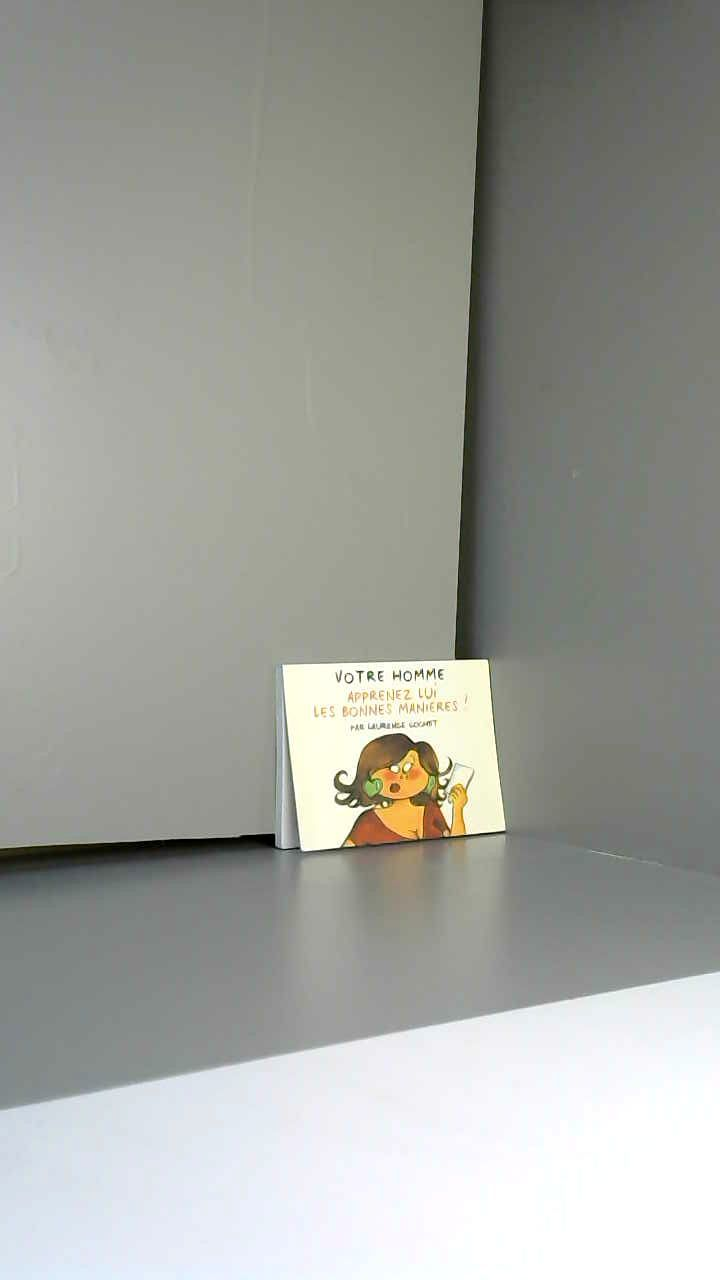book: (259, 641, 519, 872)
